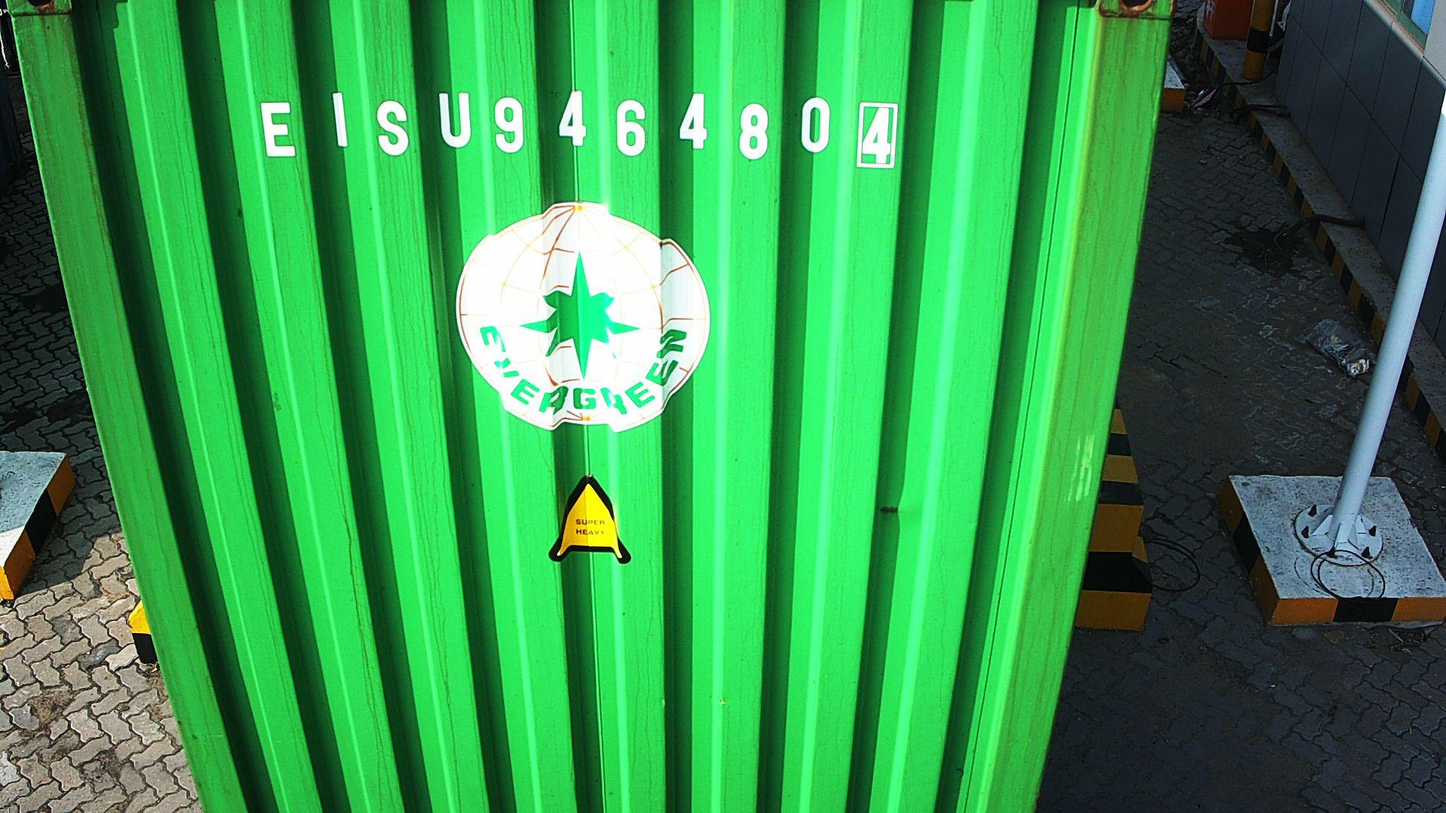container-numbers: (242, 83, 903, 170)
